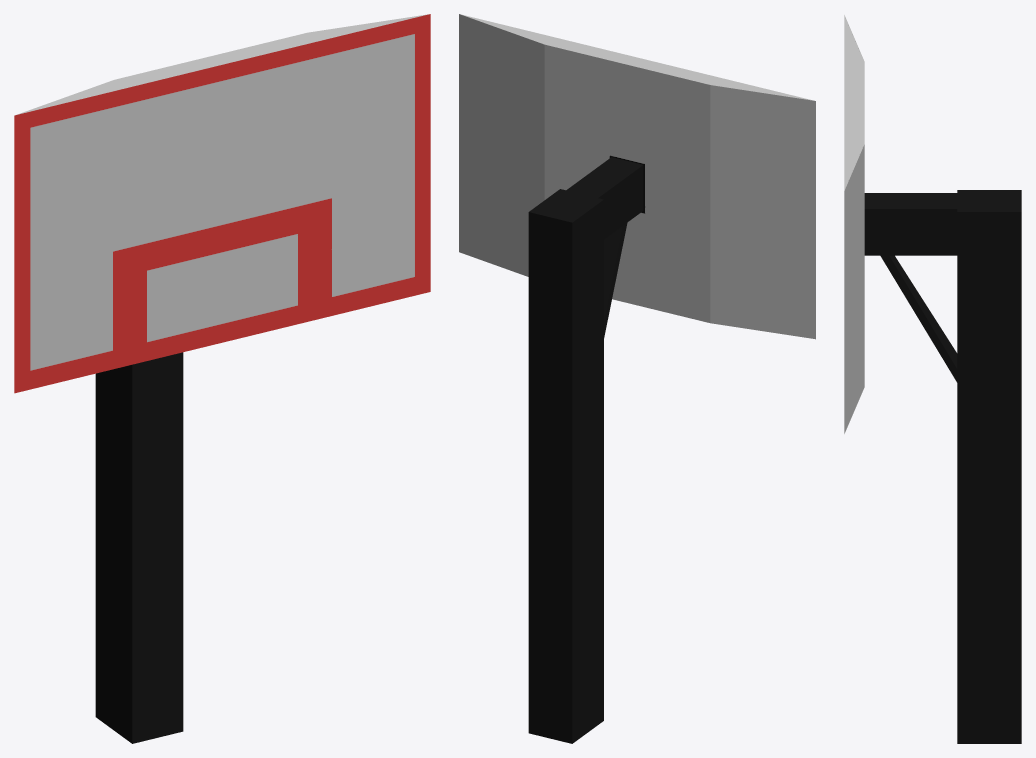
File: basketthing.fbx
3 views of the same model, side by side, from view 1: azimuth 30°, elevation 25°; view 2: azimuth 150°, elevation 25°; view 3: azimuth 270°, elevation 25° (orthographic). The views are drawn at different scales.
Parts seen in each view (by area): view 1: Basketboard_low; view 2: Basketboard_low; view 3: Basketboard_low.
Boxes of the visible parts, <box> form: Basketboard_low: <box>14,14,430,743</box>; Basketboard_low: <box>459,14,815,743</box>; Basketboard_low: <box>844,15,1021,743</box>.
Bounding box in the file's own units: 253 × 418 × 107.
